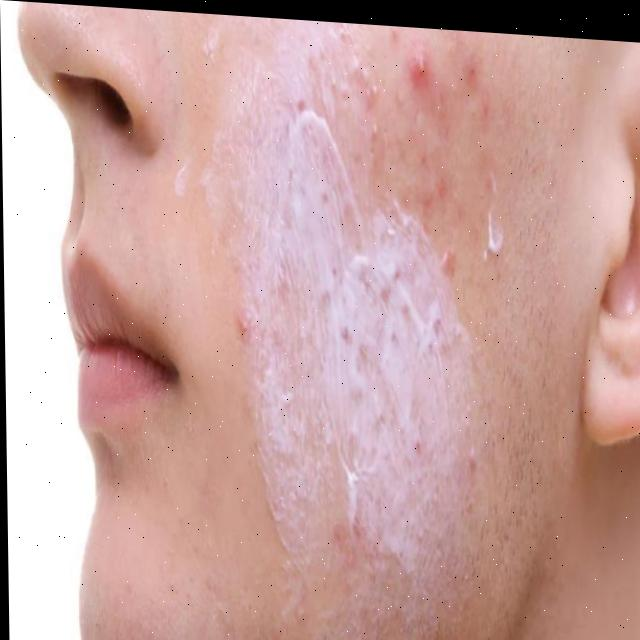Acne: (213, 135, 485, 534)
